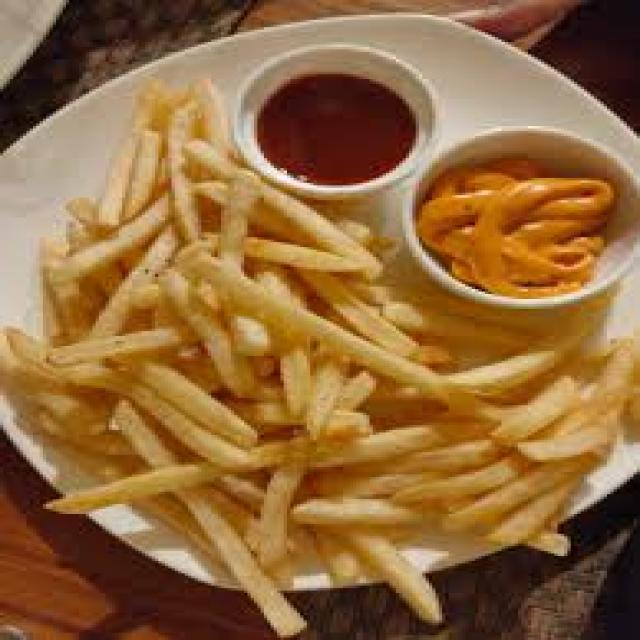감자튀김: (46, 68, 631, 612)
